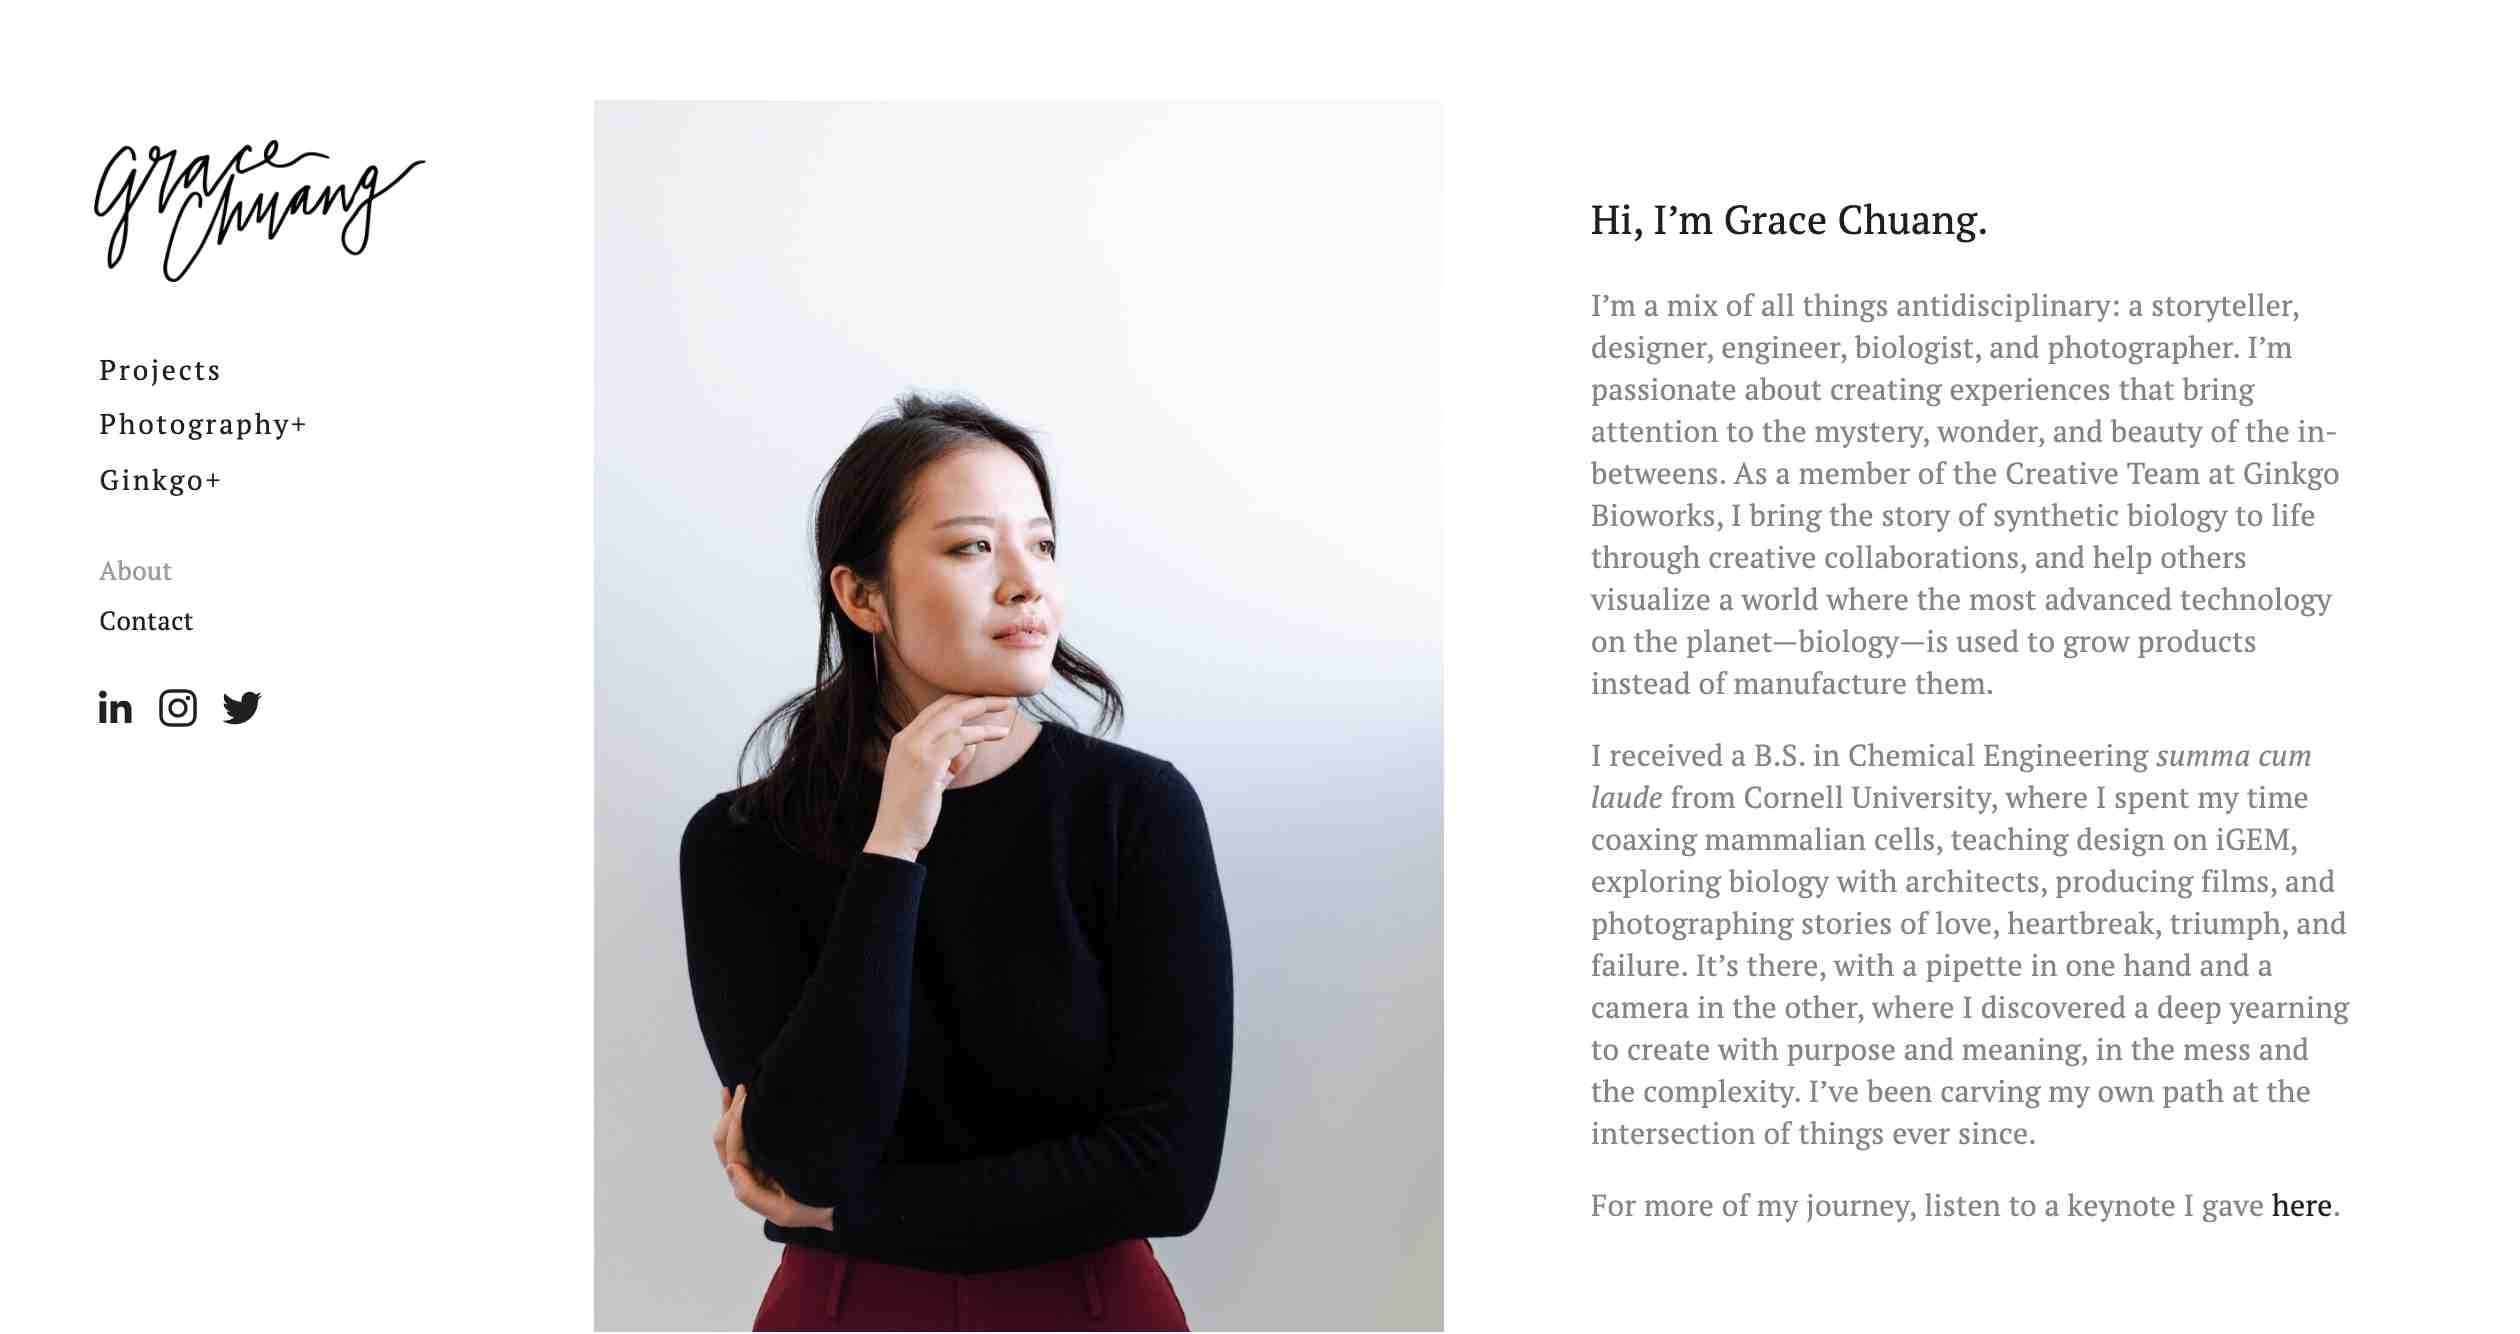Image: (598, 92, 1438, 1334), (78, 128, 423, 292)
Side Bar: (1562, 153, 2397, 1247), (45, 102, 487, 860)
